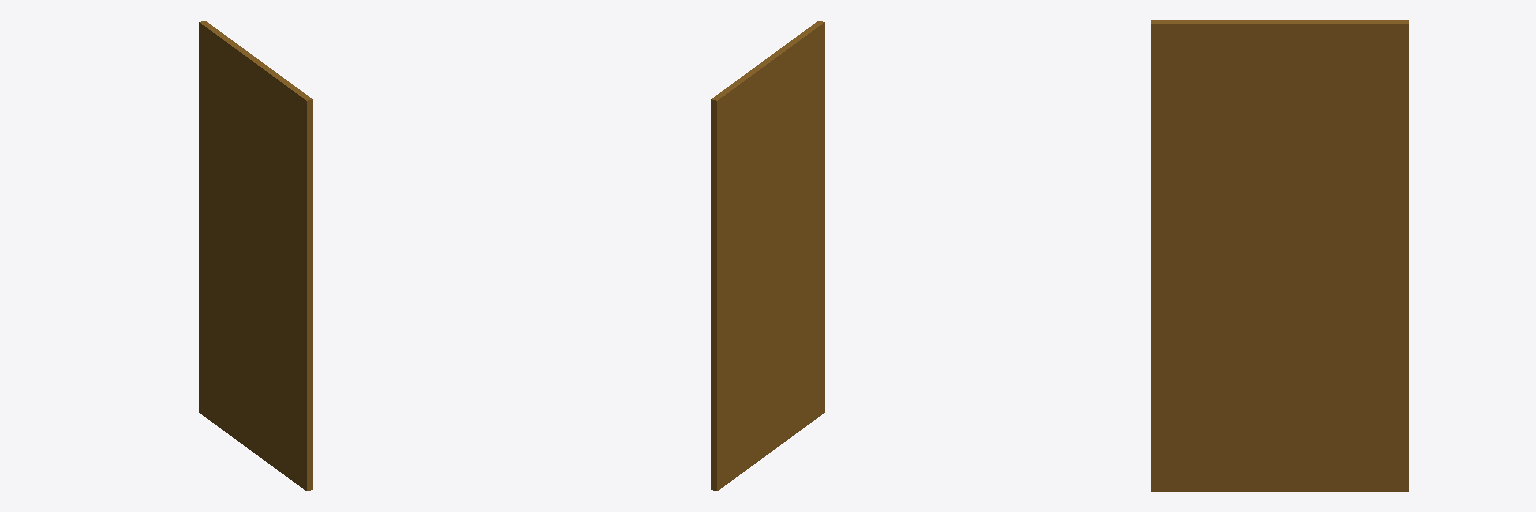
The robot description file, URDF, robot "shelf_side_board.urdf":
<?xml version="0.0" ?>
<robot name="shelf_side_board.urdf">
  <link name="baseLink">
    <contact>
      <lateral_friction value="0.2"/>
      <rolling_friction value="0.0001"/>
      <inertia_scaling value="3.0"/>
    </contact>
    <inertial>
      <origin rpy="0 0 0" xyz="0 0 0"/>
       <mass value="10"/>
       <inertia ixx="1" ixy="0" ixz="0" iyy="1" iyz="0" izz="1"/>
    </inertial>
    <visual>
      <origin rpy="0 0 0" xyz="0 0 0"/>
      <geometry>
        <mesh filename="shelf_side_board.stl"/>
      </geometry>
      <material name="wood">
        <color rgba="0.5882 0.4353 0.2 1"/>
      </material>
    </visual>
    <collision>
      <origin rpy="0 0 0" xyz="0 0 0"/>
      <geometry>
        <mesh filename="shelf_side_board.stl"/>
      </geometry>
    </collision>
  </link>
</robot>

--- What the picture shows (computed from the rendered views, not written in the file) ---
3 views of the same robot in one strip: view 1: azimuth 30°, elevation 25°; view 2: azimuth 150°, elevation 25°; view 3: azimuth 270°, elevation 25° (orthographic).
Robot: shelf_side_board.urdf — 1 links, 0 joints (none); root link baseLink; default pose: every joint at zero.
Links seen in each view (by area): view 1: baseLink; view 2: baseLink; view 3: baseLink.
Link boxes in pixels (box(x1,y1,x2,y2)): baseLink: box(199, 21, 312, 490); baseLink: box(711, 21, 824, 490); baseLink: box(1151, 20, 1408, 491).
Bounding box of the posed robot: 0.01 × 0.3 × 0.6 m (x, y, z).
1 mesh visuals loaded from 1 distinct referenced files (1 binary STL).